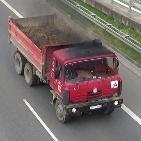Truck: (7, 13, 123, 124)
